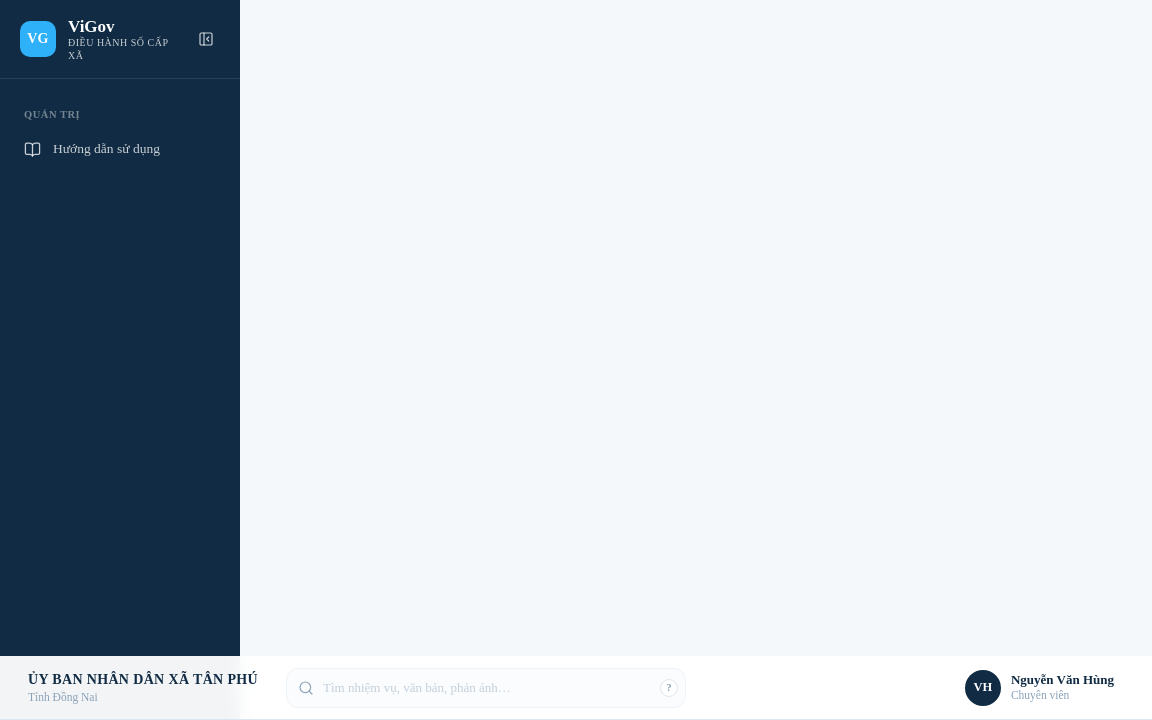
Test: DauTrang — person block and its menu › opening it: change password (no identity in the URL), sign out, the role pill
(page scrolled)
Click the button with class "header-user" at (1042, 688), box [961, 666, 1124, 710]
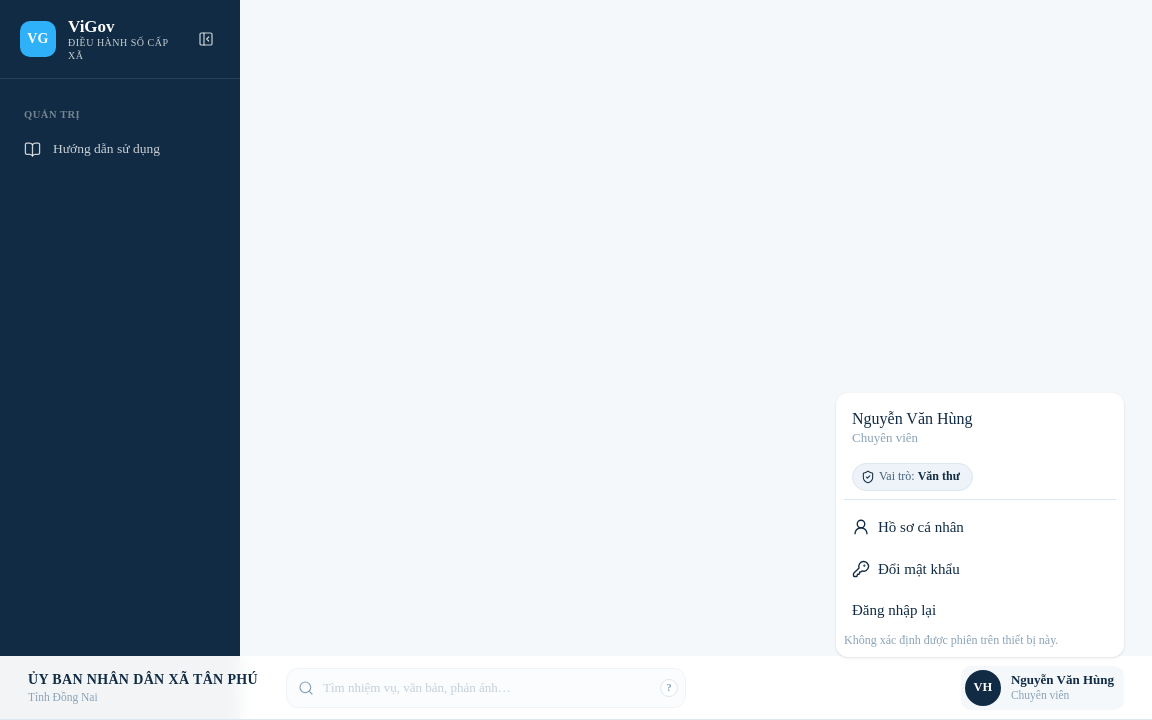
Expected: the dialog with class "user-menu" is shown, [836, 393, 1124, 657]
Expected: the link to "/doi-mat-khau" reads "Đổi mật khẩu", [852, 560, 960, 578]
Expected: the element with class "khoi-dang-xuat" is shown, [844, 602, 1058, 648]
